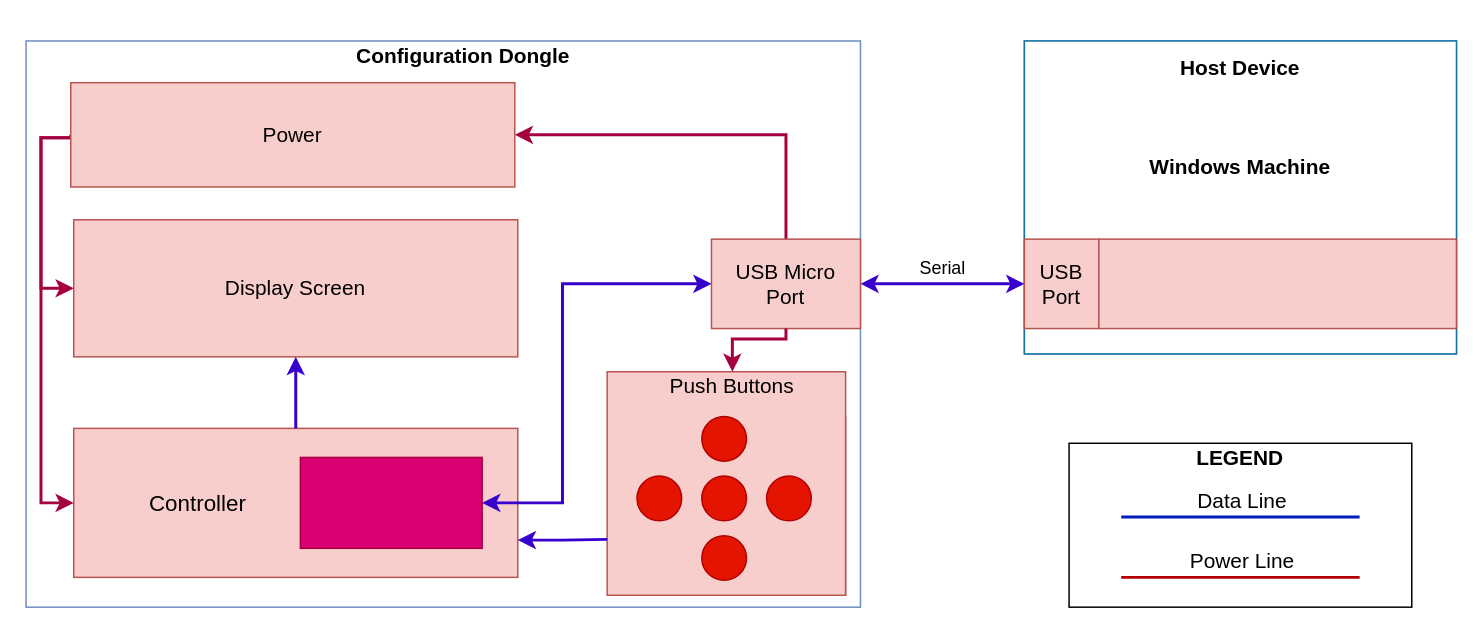
Image size: 1483x633. Some labels were removed from this diagram. The centre of each missing label's shape, as x and y in pixels:
"App" belongs at point 1276,283.
"Communication Protocol" belongs at point 390,502.
